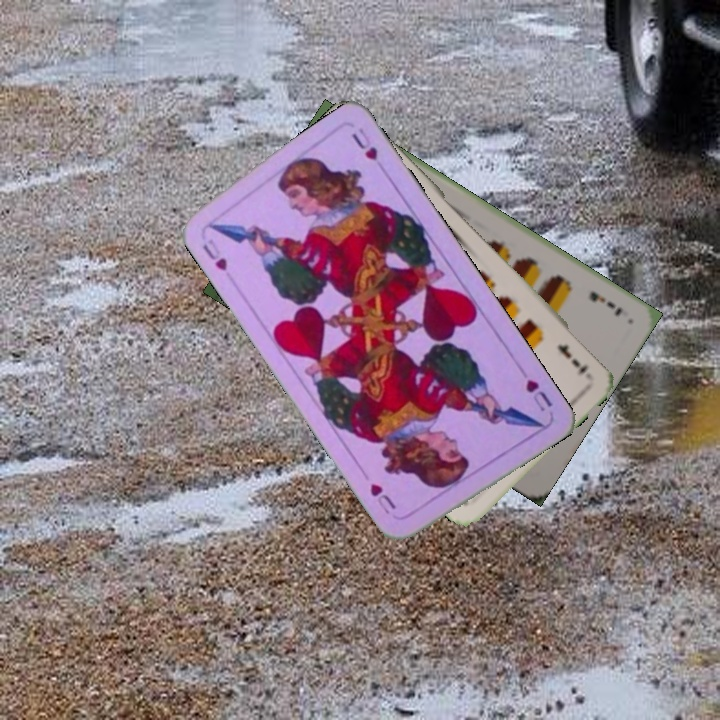E7: (553, 340, 592, 376), (585, 287, 625, 320)
HU: (521, 375, 556, 415), (198, 234, 230, 274)
